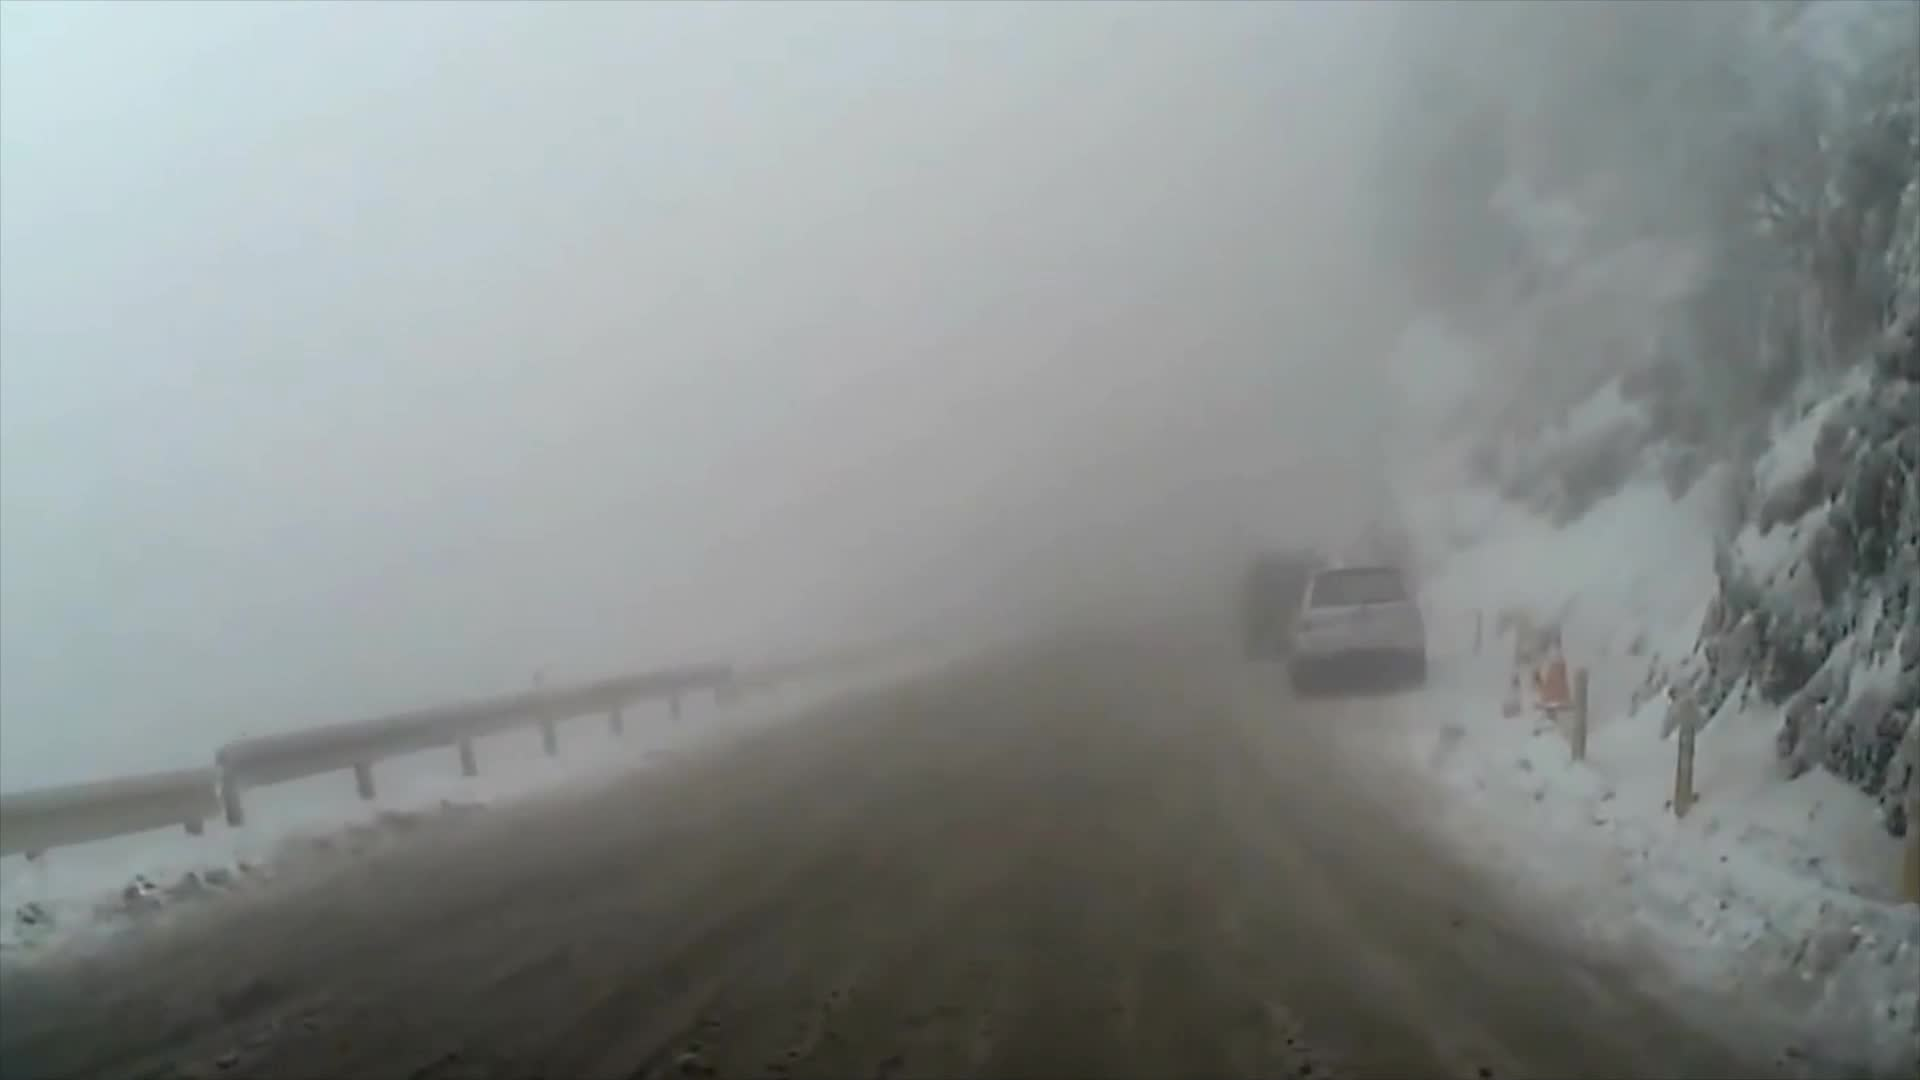vehicle: (1294, 553, 1431, 691), (1232, 550, 1344, 667)
